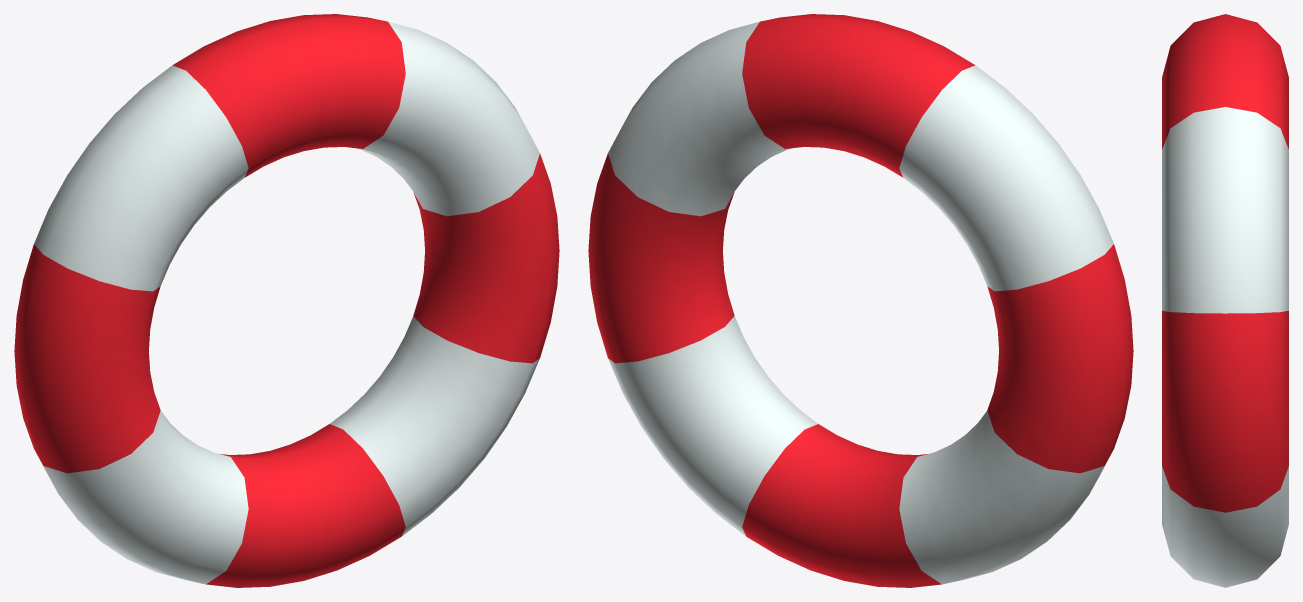
Rendered from float.fbx.
3 renders of one model, left to right at view 1: azimuth 30°, elevation 25°; view 2: azimuth 150°, elevation 25°; view 3: azimuth 270°, elevation 25°, orthographic. The views are drawn at different scales.
Visible parts, largest first — view 1: YYQ; view 2: YYQ; view 3: YYQ.
Boxes of the visible parts, <box> form: YYQ: <box>14,14,559,587</box>; YYQ: <box>588,14,1133,587</box>; YYQ: <box>1162,14,1288,587</box>.
Size of the model in its own units: 51.6 by 51.6 by 11.4.
